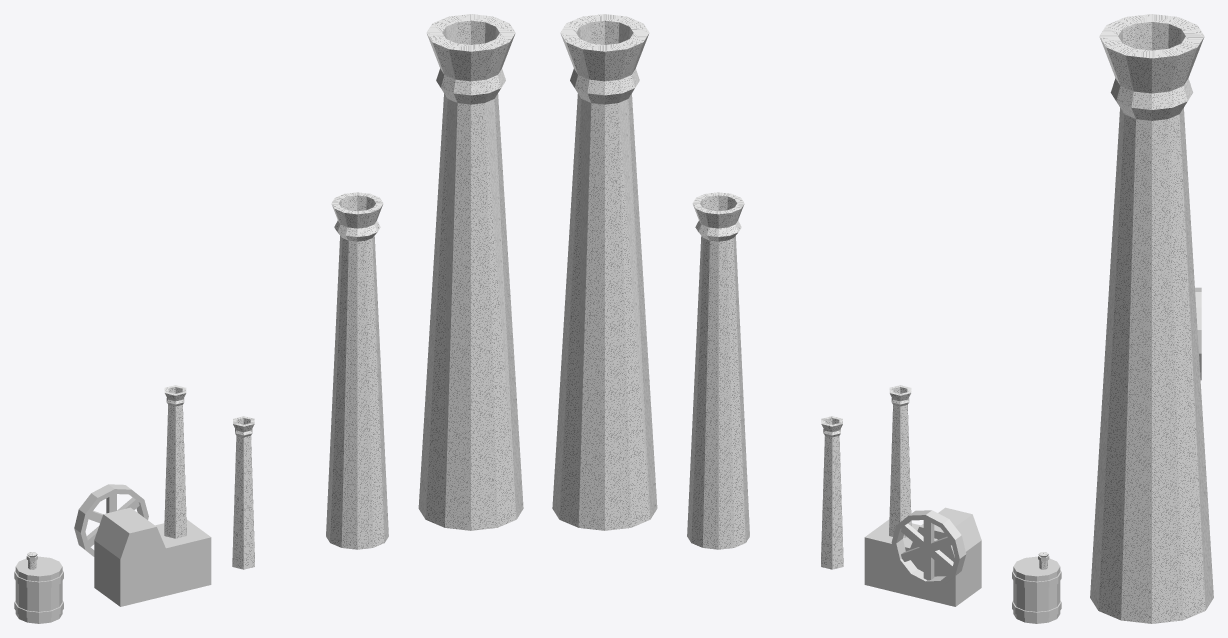
Rendered from mod_factory_chimnies.fbx.
The picture shows the model from 3 angles, left to right: view 1: azimuth 30°, elevation 25°; view 2: azimuth 150°, elevation 25°; view 3: azimuth 270°, elevation 25°; orthographic projection. The views are drawn at different scales.
Visible parts, largest first — view 1: factory_chimney_large, factory_chimney_mid, steam_engine, steam_barrel, factory_chimney_small; view 2: factory_chimney_large, factory_chimney_mid, steam_engine, steam_barrel, factory_chimney_small; view 3: factory_chimney_large, steam_engine.
Part boxes in pixels (left/top/right/bottom): factory_chimney_large: left=418, top=14, right=523, bottom=530; factory_chimney_mid: left=326, top=192, right=388, bottom=549; steam_engine: left=74, top=385, right=211, bottom=606; steam_barrel: left=14, top=552, right=63, bottom=623; factory_chimney_small: left=232, top=416, right=254, bottom=569; factory_chimney_large: left=552, top=14, right=657, bottom=530; factory_chimney_mid: left=687, top=192, right=749, bottom=549; steam_engine: left=864, top=385, right=981, bottom=606; steam_barrel: left=1012, top=552, right=1061, bottom=623; factory_chimney_small: left=821, top=416, right=843, bottom=569; factory_chimney_large: left=1090, top=14, right=1213, bottom=623; steam_engine: left=1195, top=287, right=1201, bottom=380.
Size of the model in its own units: 21.94 by 20 by 4.
